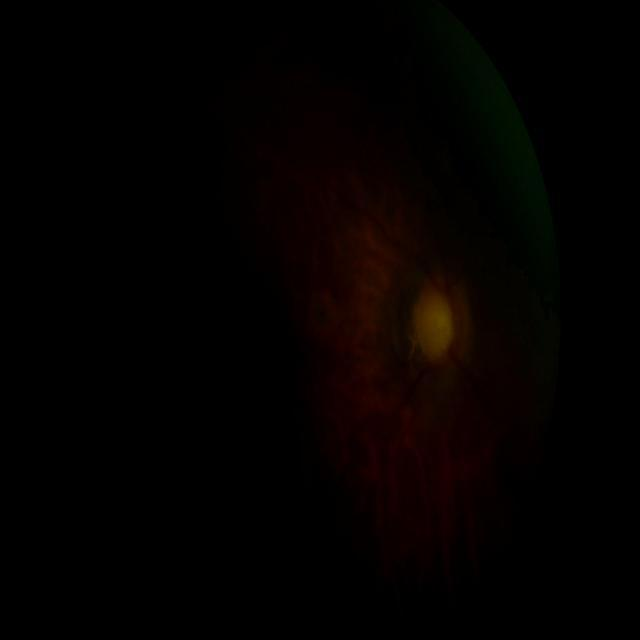cup: (420, 288, 455, 364)
disk: (412, 272, 474, 369)
